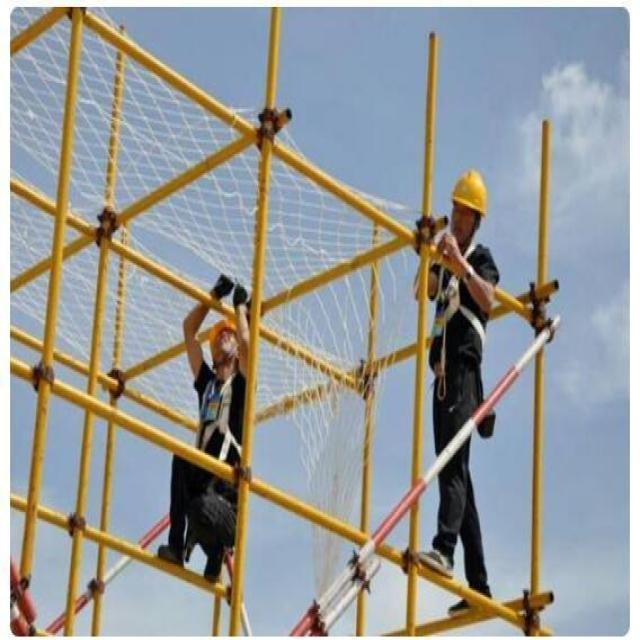Arnes_seguridad: (427, 230, 490, 351), (196, 370, 245, 457)
